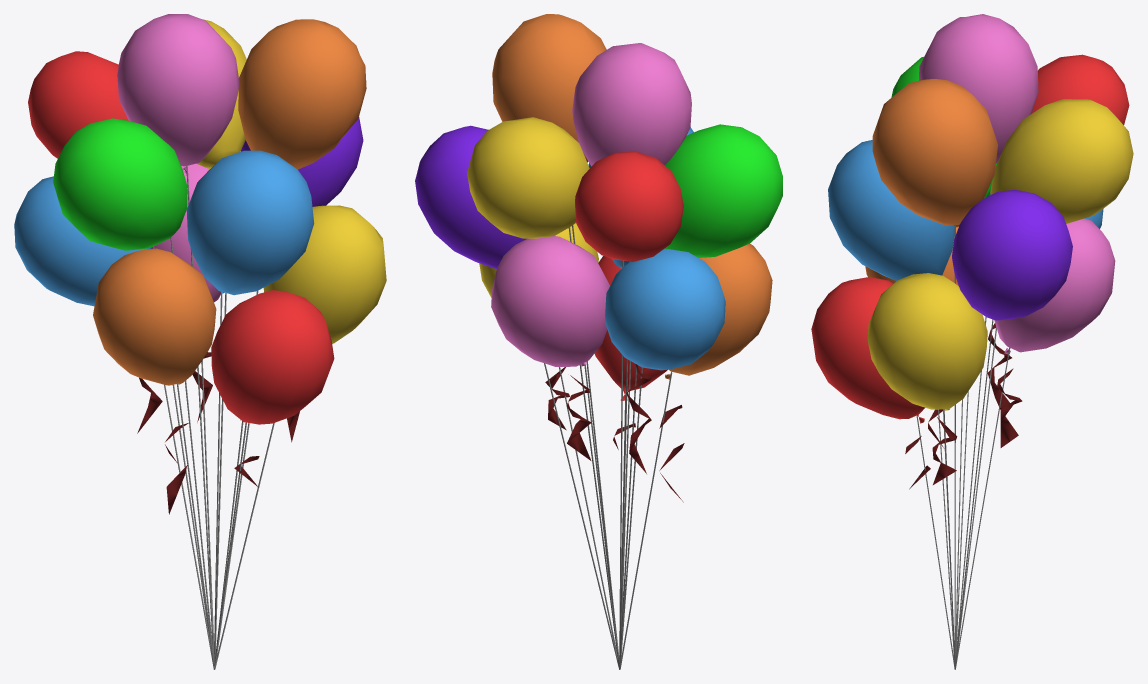
File: balloons.glb
3 renders of one model, left to right at view 1: azimuth 30°, elevation 25°; view 2: azimuth 150°, elevation 25°; view 3: azimuth 270°, elevation 25°, orthographic.
Parts seen in each view (by area): view 1: Sphere.001_Balloon5_0, Sphere_Balloon3_0, Sphere.005_balloon1_0, Sphere.002_Balloon6_0, Sphere.003_Balloon6.001_0, Sphere.006_balloon2_0, Cube_cord_0, Sphere.007_Balloon4_0, Plane.004_lace_0; view 2: Sphere.002_Balloon6_0, Sphere.001_Balloon5_0, Sphere.006_balloon2_0, Sphere.003_Balloon6.001_0, Sphere_Balloon3_0, Sphere.005_balloon1_0, Sphere.007_Balloon4_0, Cube_cord_0, Plane.004_lace_0; view 3: Sphere.006_balloon2_0, Sphere.002_Balloon6_0, Sphere.001_Balloon5_0, Sphere.007_Balloon4_0, Sphere.005_balloon1_0, Sphere_Balloon3_0, Cube_cord_0, Plane.004_lace_0, Sphere.003_Balloon6.001_0.
Part boxes in pixels (box(x1,y1,x2,y2)): Sphere.001_Balloon5_0: box(93, 19, 366, 385); Sphere_Balloon3_0: box(14, 150, 314, 306); Sphere.005_balloon1_0: box(28, 51, 334, 424); Sphere.002_Balloon6_0: box(117, 14, 239, 302); Sphere.003_Balloon6.001_0: box(53, 118, 187, 250); Sphere.006_balloon2_0: box(197, 19, 386, 343); Cube_cord_0: box(152, 166, 274, 669); Sphere.007_Balloon4_0: box(240, 117, 363, 206); Plane.004_lace_0: box(137, 352, 299, 514); Sphere.002_Balloon6_0: box(491, 43, 691, 366); Sphere.001_Balloon5_0: box(492, 14, 772, 379); Sphere.006_balloon2_0: box(467, 117, 598, 297); Sphere.003_Balloon6.001_0: box(665, 124, 782, 257); Sphere_Balloon3_0: box(588, 127, 725, 370); Sphere.005_balloon1_0: box(575, 151, 683, 400); Sphere.007_Balloon4_0: box(415, 125, 526, 268); Cube_cord_0: box(544, 225, 672, 669); Plane.004_lace_0: box(545, 364, 684, 502); Sphere.006_balloon2_0: box(867, 99, 1133, 410); Sphere.002_Balloon6_0: box(919, 14, 1115, 354); Sphere.001_Balloon5_0: box(865, 79, 997, 286); Sphere.007_Balloon4_0: box(952, 189, 1072, 320); Sphere.005_balloon1_0: box(811, 54, 1129, 423); Sphere_Balloon3_0: box(828, 140, 1103, 280); Cube_cord_0: box(916, 224, 1009, 669); Plane.004_lace_0: box(905, 323, 1022, 489); Sphere.003_Balloon6.001_0: box(891, 57, 996, 198).
Bounding box in the file's own units: 1.05 × 2 × 0.9145.
